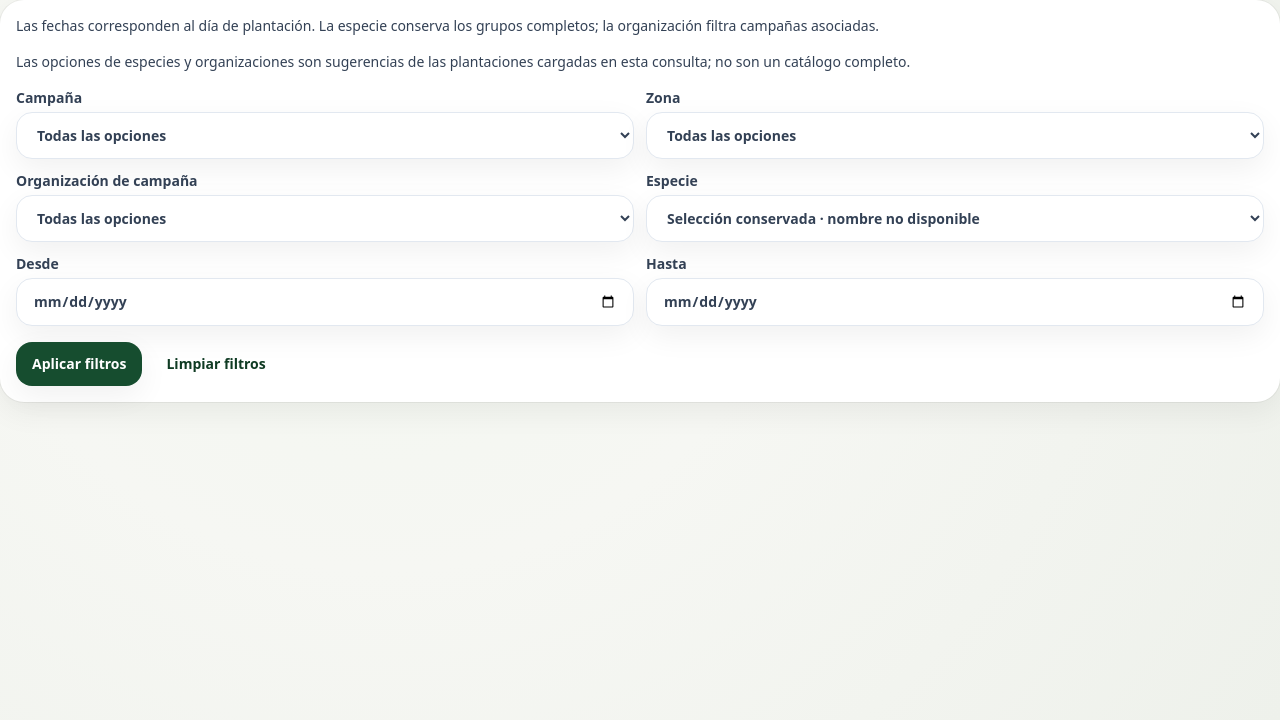
Test: filtros públicos por nombre › no reenvía un ID inválido del enlace como filtro aceptado
What coordinates should you click on to do the following:
click the button "Aplicar filtros"
I would click on:
 (79, 364)
Its box is [16,342,142,386].
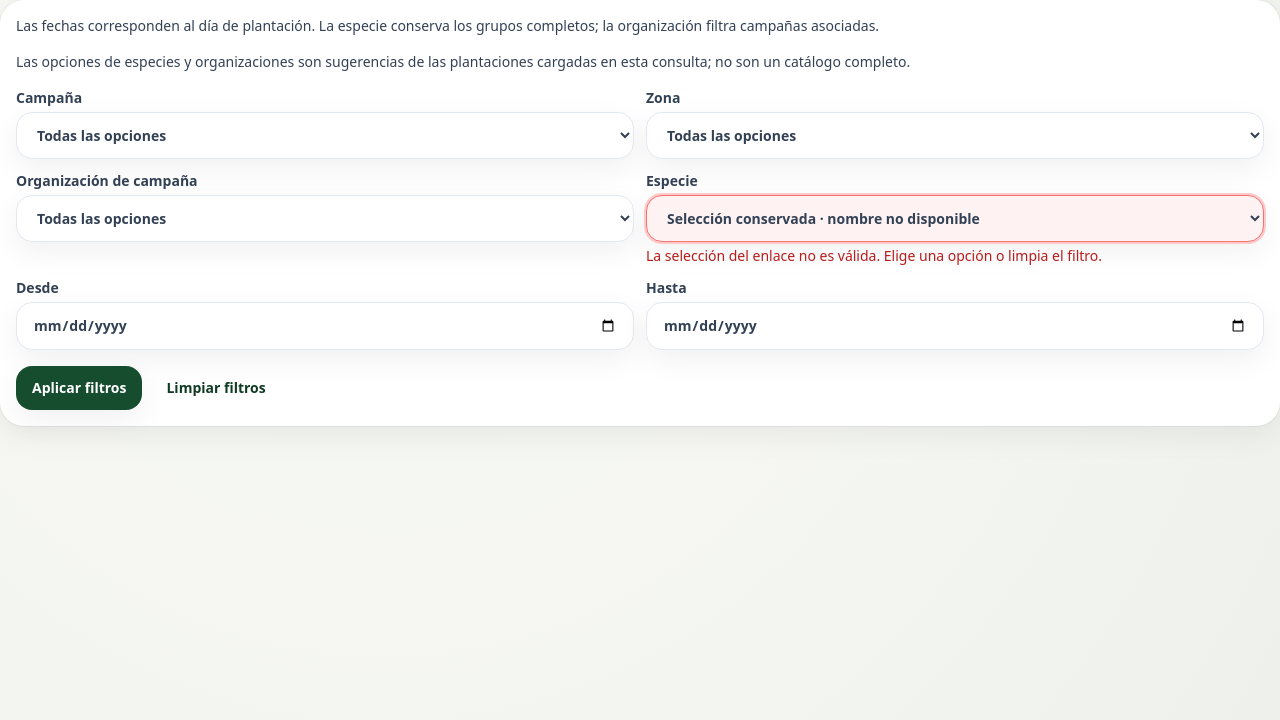
Expected: the message shows "La selección del enlace no es válida.", [646,246,1102,265]
